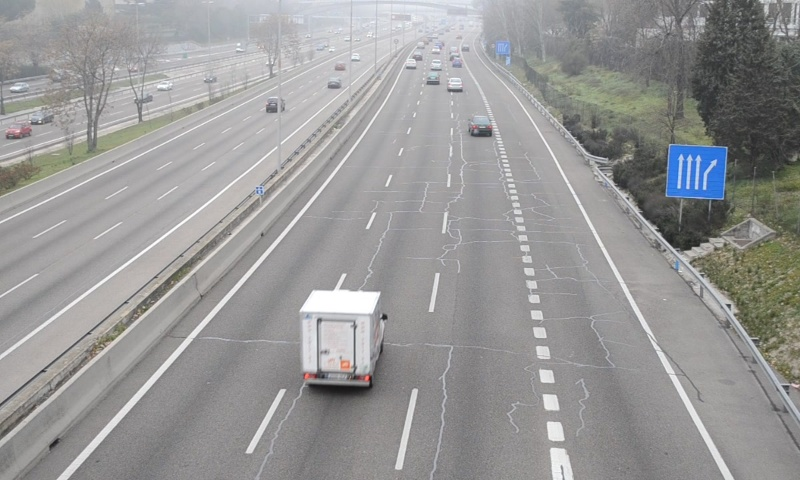car: (469, 114, 492, 136)
small-truck: (300, 290, 386, 386)
